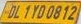character: (67, 5, 77, 21), (36, 5, 46, 19), (31, 4, 39, 19), (53, 4, 61, 19), (7, 5, 16, 18), (23, 4, 31, 18), (62, 5, 69, 20), (46, 5, 54, 18), (13, 4, 20, 18)
